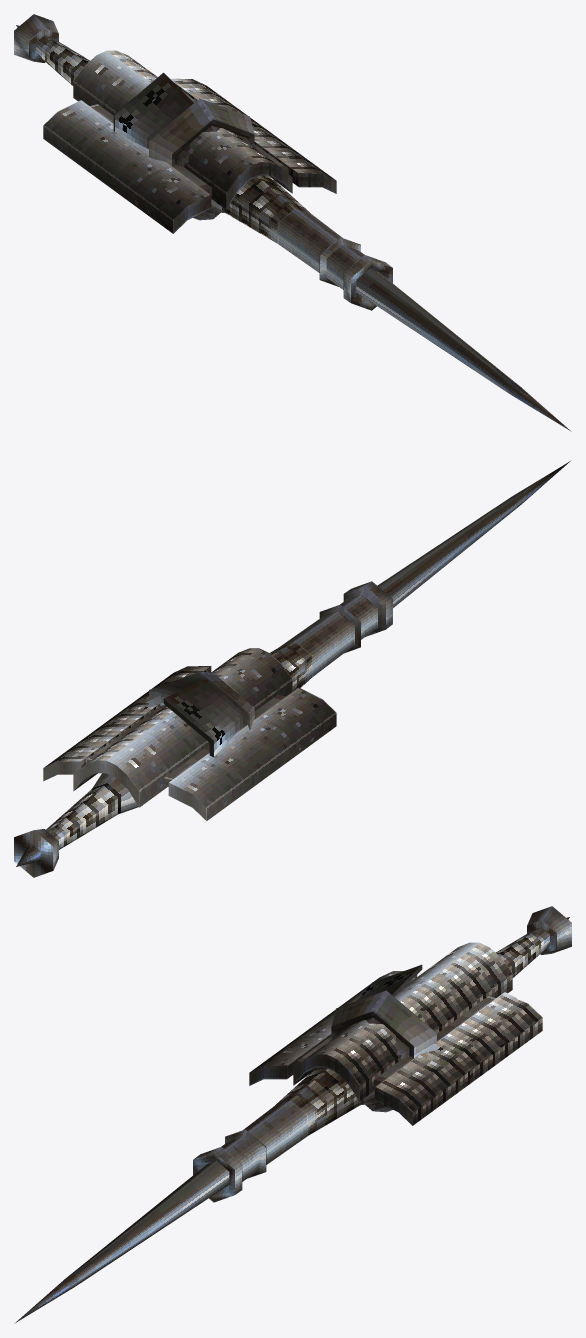
3 views of the same model, one above another, from view 1: azimuth 30°, elevation 25°; view 2: azimuth 150°, elevation 25°; view 3: azimuth 330°, elevation 25° (orthographic).
Visible parts, largest first — view 1: part_0, part_1; view 2: part_1, part_0; view 3: part_1, part_0.
Part boxes in pixels (left/top/right/bottom): part_0: left=14, top=14, right=571, bottom=431; part_1: left=43, top=50, right=336, bottom=233; part_1: left=43, top=648, right=336, bottom=820; part_0: left=14, top=461, right=570, bottom=877; part_1: left=249, top=942, right=542, bottom=1125; part_0: left=14, top=906, right=571, bottom=1323.
Bounding box in the file's own units: 77.15 × 55.01 × 455.
Materials: 1 (1 with a texture image).
